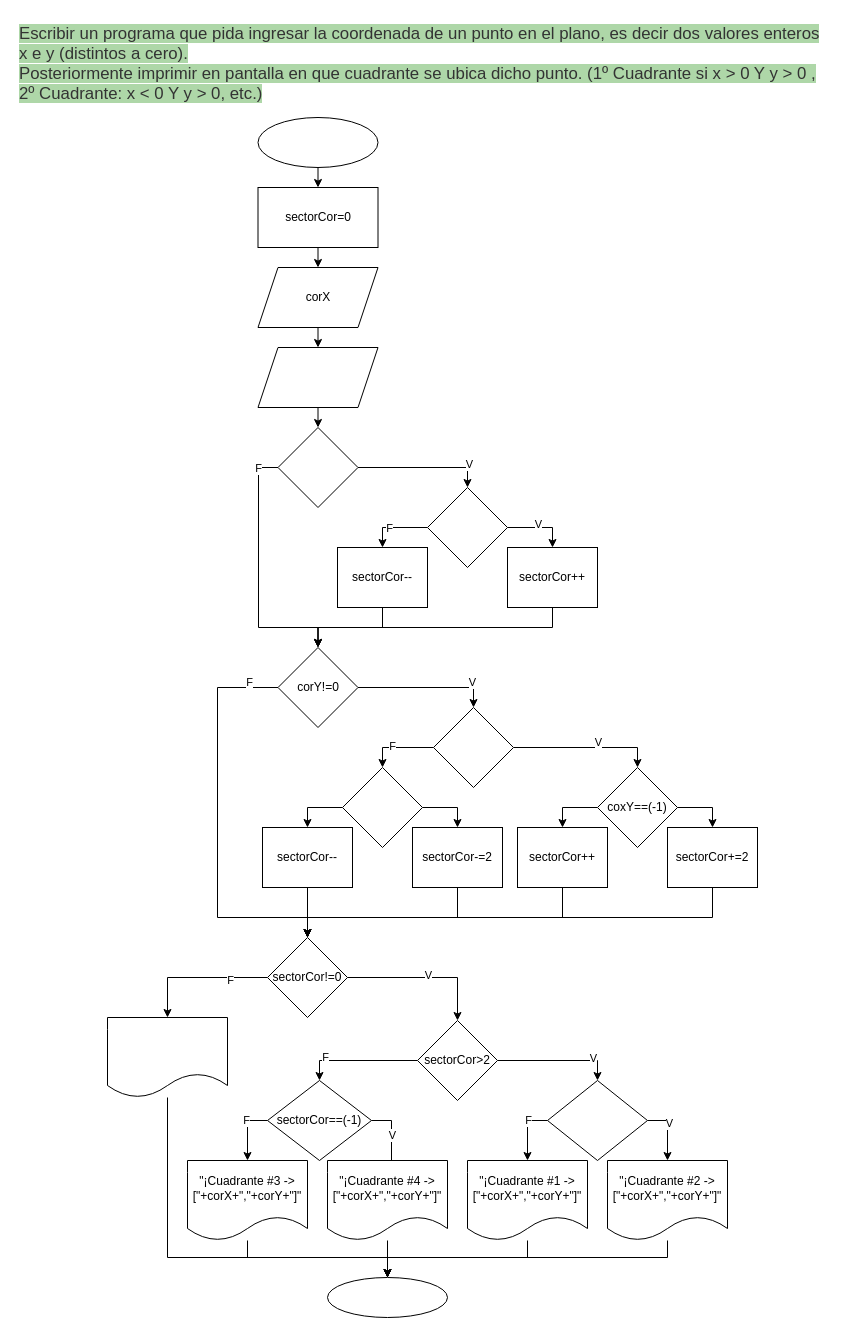
Some shapes in this 844 by 1335 pixel diagram are drawn without their labels. Each missing label, with the box of its shape:
"¡Cuadrante neutral [0,0]!": (106, 1016, 228, 1098)
corX!=0: (277, 426, 358, 508)
corX>0: (426, 486, 508, 568)
corY: (257, 346, 378, 408)
coxY==1: (342, 766, 422, 848)
coxY>0: (432, 706, 514, 788)
fin: (326, 1276, 448, 1318)
inicio: (257, 116, 378, 168)
sectorCor==1: (546, 1080, 648, 1160)
